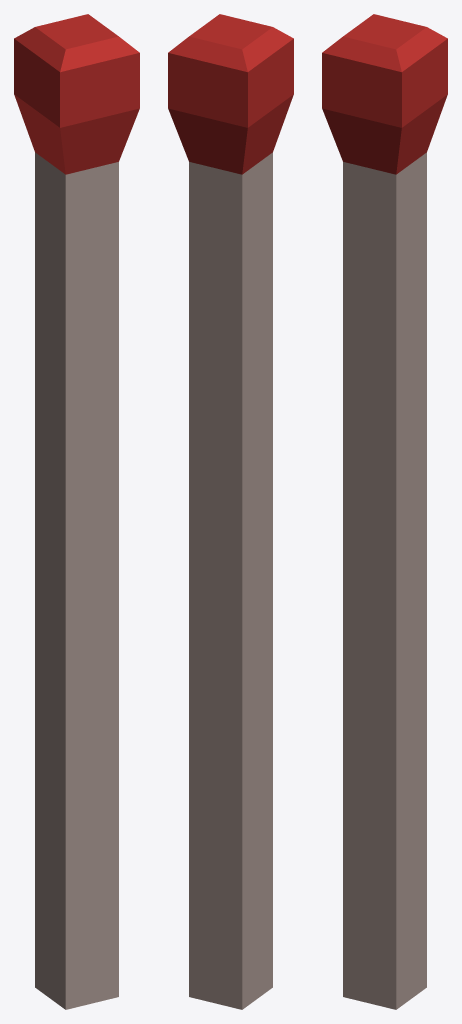
The model's file is Matchstick.fbx.
3 views of the same model, side by side, from view 1: azimuth 30°, elevation 25°; view 2: azimuth 150°, elevation 25°; view 3: azimuth 330°, elevation 25° (orthographic).
Visible parts, largest first — view 1: cuboid; view 2: cuboid; view 3: cuboid.
Boxes of the visible parts, <box> form: cuboid: <box>14,14,139,1009</box>; cuboid: <box>168,14,293,1009</box>; cuboid: <box>322,14,447,1009</box>.
Size of the model in its own units: 9.38 by 108 by 9.38.
1 material, 1 textured.
